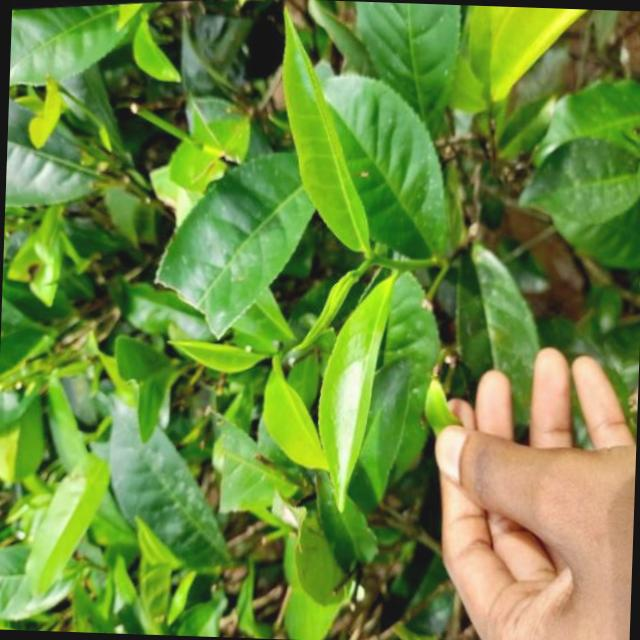Stem: (367, 254, 380, 264)
